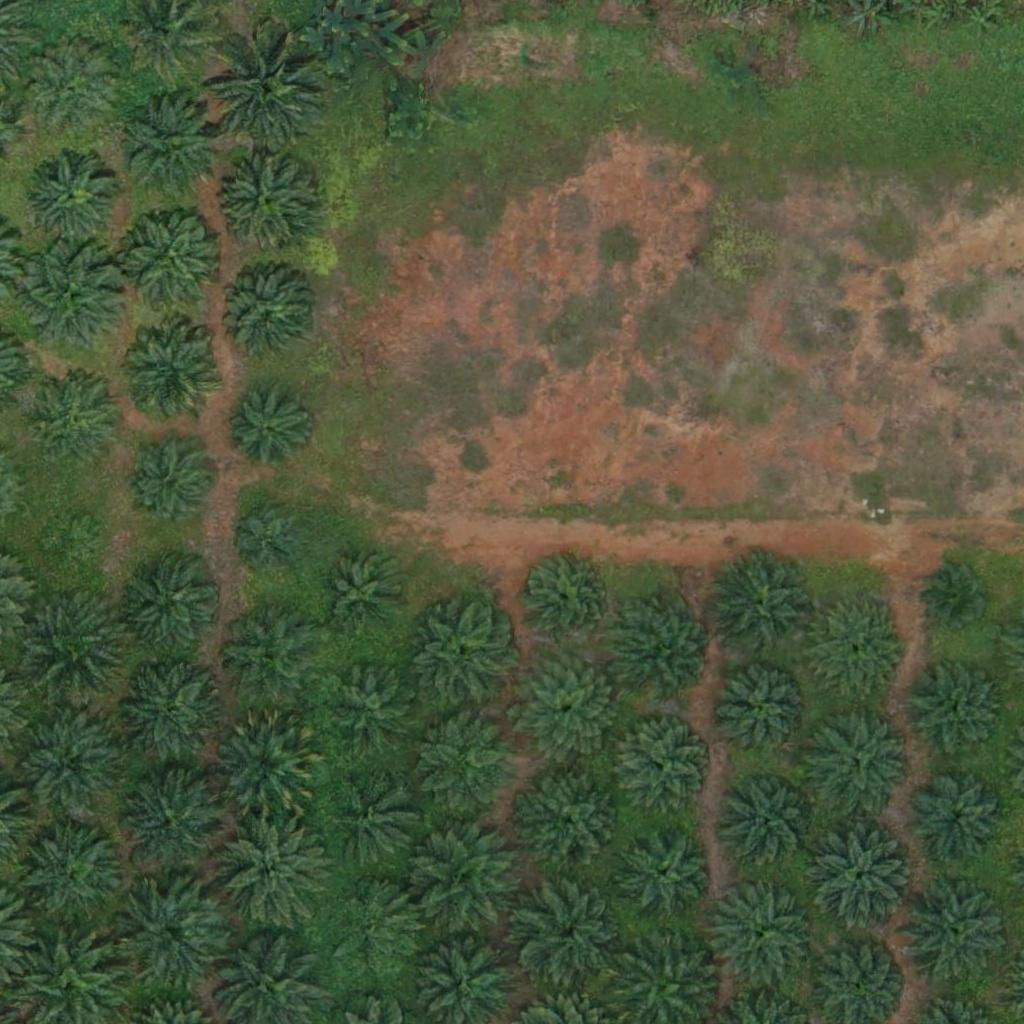Kelapa_Sawit: (114, 200, 227, 314), (12, 239, 125, 353), (512, 653, 625, 767), (516, 765, 629, 879), (210, 709, 323, 822), (113, 550, 226, 663), (214, 813, 327, 926), (900, 876, 1013, 989), (703, 879, 815, 993), (212, 36, 324, 149), (117, 94, 229, 207), (114, 658, 226, 771), (15, 587, 127, 700), (13, 709, 125, 822), (11, 816, 123, 929), (113, 879, 225, 992), (414, 823, 526, 936), (516, 880, 628, 993), (707, 550, 819, 663), (807, 820, 919, 933), (216, 150, 316, 251), (218, 606, 318, 707), (29, 369, 129, 470), (119, 771, 219, 872), (615, 605, 715, 706), (716, 664, 816, 765), (718, 770, 818, 871), (809, 602, 909, 703), (811, 708, 911, 809), (905, 660, 1005, 761), (908, 768, 1008, 869), (22, 37, 122, 137), (19, 149, 119, 249), (218, 264, 318, 364), (119, 324, 219, 424), (411, 605, 511, 705), (424, 715, 524, 815), (615, 714, 715, 814), (618, 825, 718, 925), (223, 388, 311, 476), (318, 550, 406, 638), (329, 780, 417, 868), (334, 670, 421, 758), (125, 440, 212, 528), (333, 884, 420, 972), (519, 553, 606, 641), (928, 563, 991, 626), (236, 508, 299, 571), (38, 511, 100, 574)
